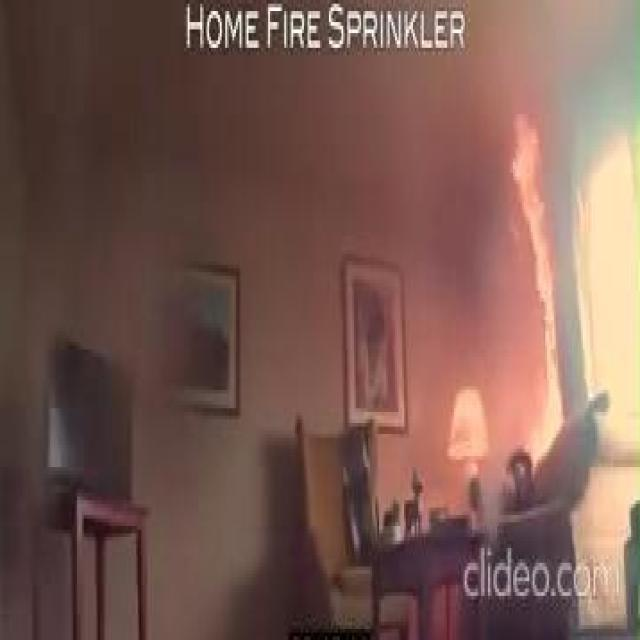smoke: (509, 106, 564, 456)
